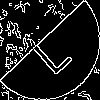L: (25, 25, 74, 77)
